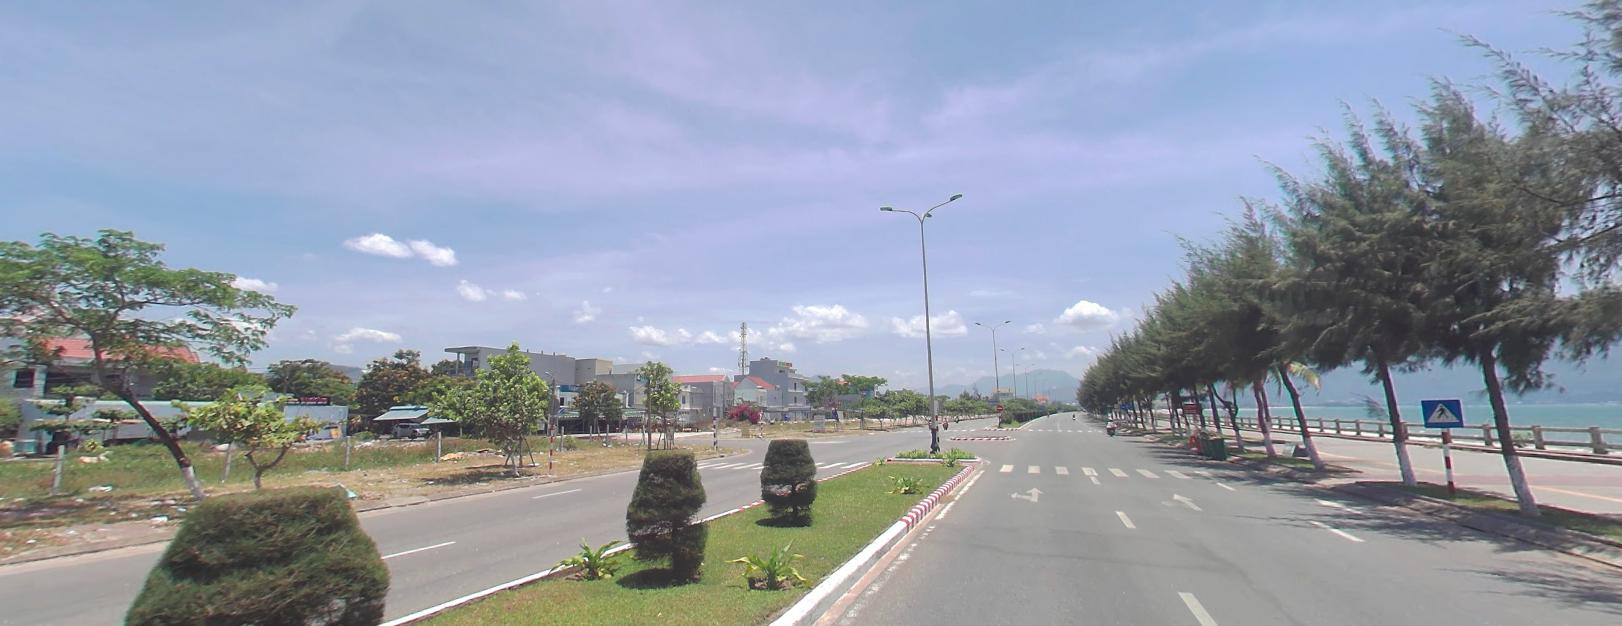Cam nguoc chieu: (996, 403, 1003, 409)
